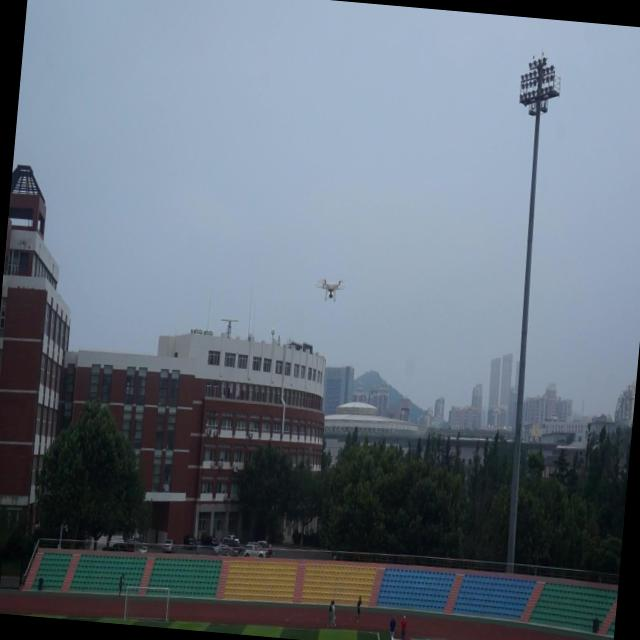drone: (314, 274, 344, 304)
